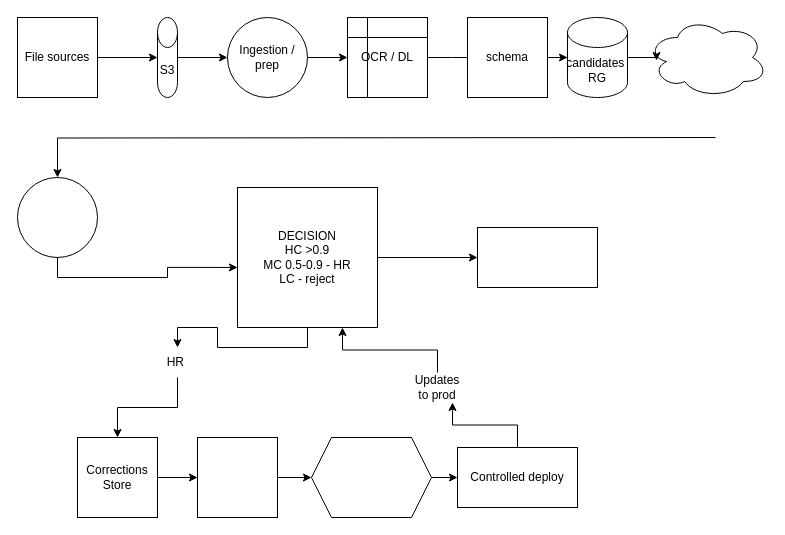
The diagram is 785 pixels wide and 535 high, and some of its shapes have lost their labels. The shapes that lost their labels are listed below. From the top down, each one's centre as x and y in pixels, then its label:
At (x=707, y=57): "LLM /ML matching".
At (x=57, y=217): "confidence scoring".
At (x=537, y=257): "output (structured)".
At (x=237, y=477): "Golden Set".
At (x=371, y=477): "Prompt / model / .. improvement".
